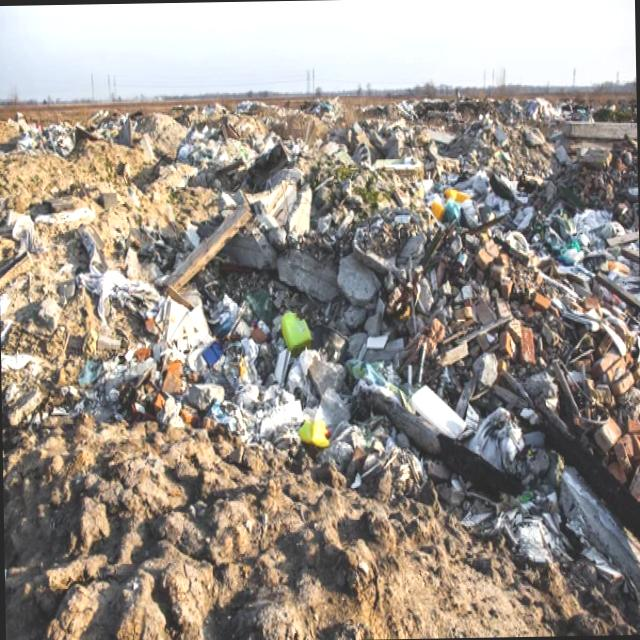garbage: (0, 89, 640, 619)
